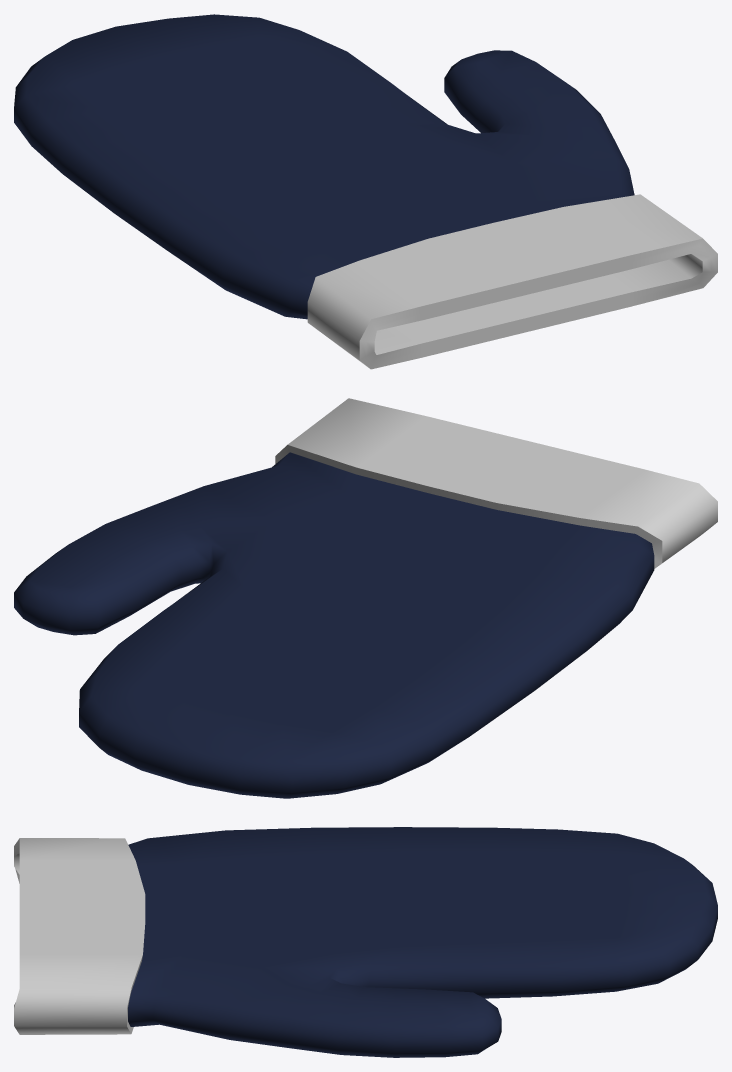
File: Mitten_obj.obj
3 views of the same model, one above another, from view 1: azimuth 30°, elevation 25°; view 2: azimuth 150°, elevation 25°; view 3: azimuth 270°, elevation 25° (orthographic). The views are drawn at different scales.
Visible parts, largest first — view 1: Mitten_Plane; view 2: Mitten_Plane; view 3: Mitten_Plane.
Part boxes in pixels (x1,y1,x2,y2): Mitten_Plane: (14, 14, 717, 369); Mitten_Plane: (14, 398, 717, 798); Mitten_Plane: (14, 827, 717, 1057).
Bounding box in the file's own units: 0.6828 × 0.0732 × 0.9775.
